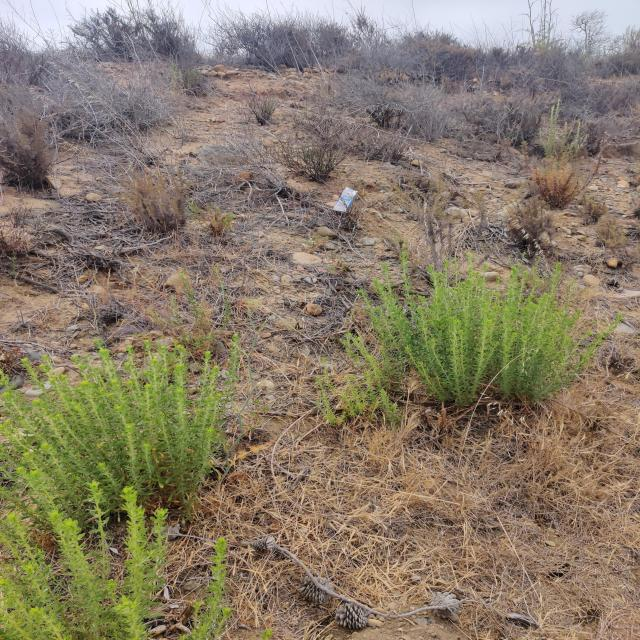litter: (333, 187, 359, 212)
